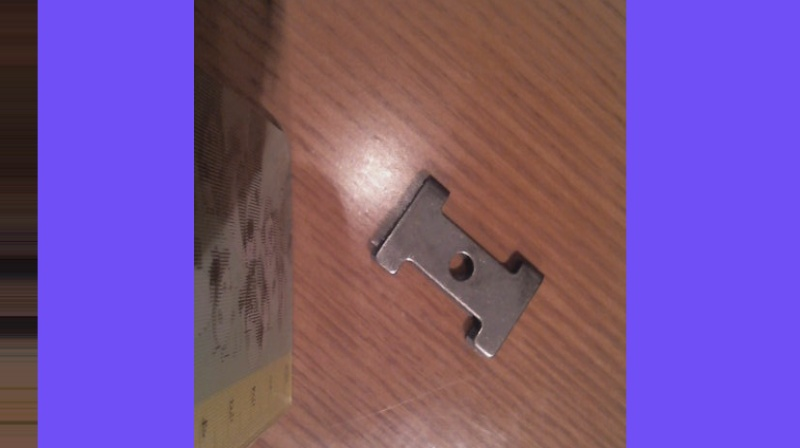O002: (368, 171, 544, 360)
